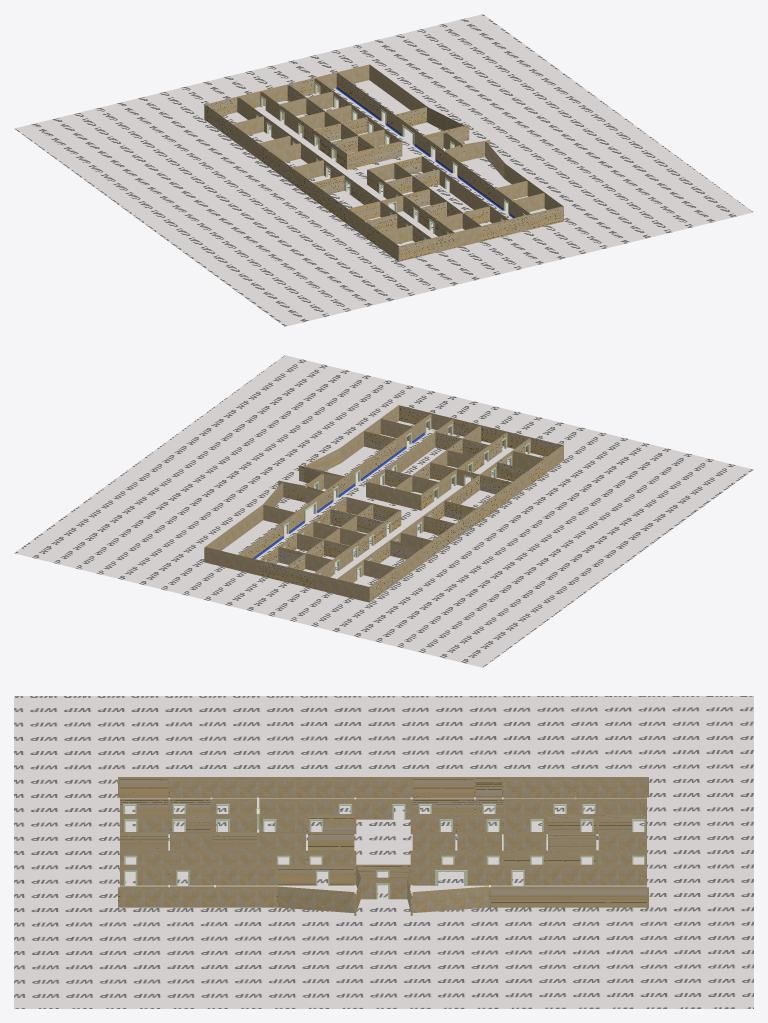
Rendered from hospital.dae.
3 renders of one model, top to bottom at view 1: azimuth 30°, elevation 25°; view 2: azimuth 150°, elevation 25°; view 3: azimuth 270°, elevation 25°, orthographic. The views are drawn at different scales.
Parts seen in each view (by area): view 1: Floor, Interior_walls; view 2: Floor, Interior_walls; view 3: Floor, Interior_walls.
Part boxes in pixels (x1,y1,x2,y2): Floor: (14,14,753,326); Interior_walls: (204,64,563,261); Floor: (14,355,753,667); Interior_walls: (204,405,563,602); Floor: (14,696,753,1008); Interior_walls: (118,777,648,915).
Size of the model in its own units: 107 by 107 by 3.25.
